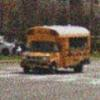buses: (22, 26, 91, 74)
